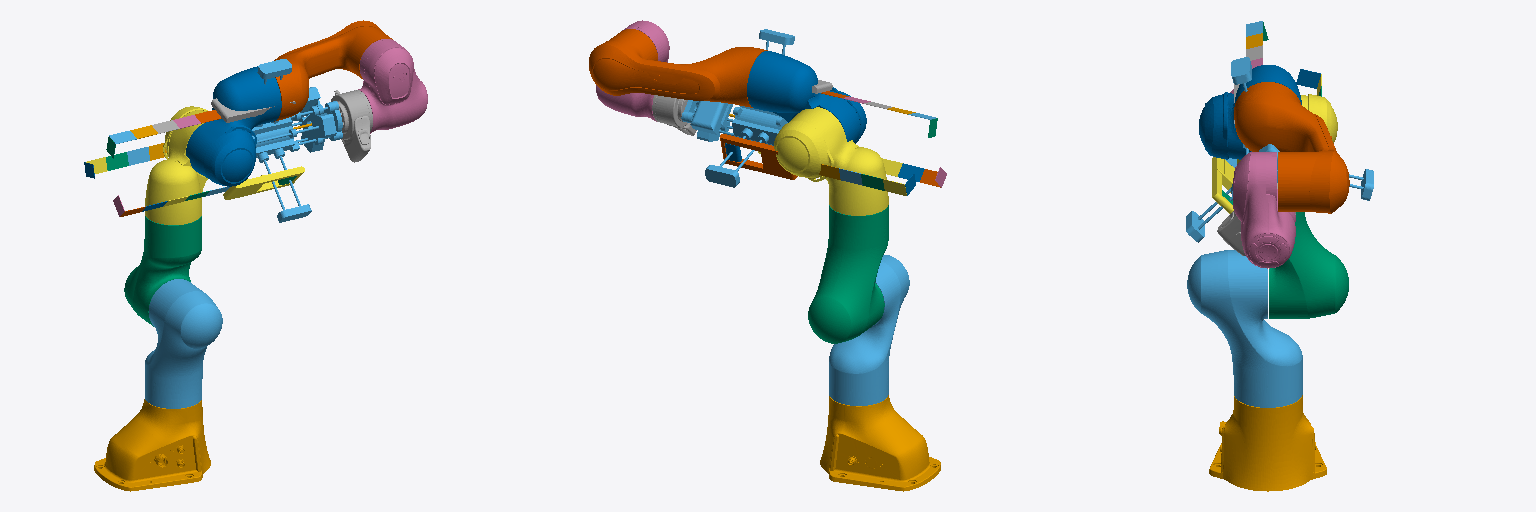
--- What the picture shows (computed from the rendered views, not written in the file) ---
The picture shows the robot from 3 angles, left to right: view 1: azimuth 30°, elevation 25°; view 2: azimuth 150°, elevation 25°; view 3: azimuth 270°, elevation 25°; orthographic projection.
Robot: panda_and_gripper — 36 links, 35 joints (25 revolute, 4 prismatic, 6 fixed); root link world; default pose: all joints at 0 but 4 set to mid-range because 0 is outside their limits (panda_joint4 = -1.57, finger_1_prismatic_joint = 0.0915, finger_2_prismatic_joint = 0.0915, finger_3_prismatic_joint = 0.0915).
Links seen in each view (by area): view 1: panda_link0, panda_link1, panda_link4, panda_link6, gripper_base_link, panda_link5, panda_link2, panda_link3, panda_link7, finger_1, finger_3; view 2: panda_link0, panda_link5, panda_link2, panda_link3, panda_link1, panda_link4, gripper_base_link, panda_link6, finger_2, panda_link7; view 3: panda_link1, panda_link5, panda_link0, panda_link2, panda_link6, panda_link4, gripper_base_link, finger_1, panda_link3, panda_link7.
Link boxes in pixels (x1,y1,x2,y2): panda_link0: (94,399,210,491); panda_link1: (145,279,222,408); panda_link4: (186,66,281,186); panda_link6: (358,39,427,133); gripper_base_link: (252,59,342,222); panda_link5: (274,20,392,121); panda_link2: (124,216,201,326); panda_link3: (145,106,207,224); panda_link7: (331,90,372,162); finger_1: (223,166,304,199); finger_3: (211,98,295,122); panda_link0: (820,395,940,491); panda_link5: (589,29,767,107); panda_link2: (808,205,888,343); panda_link3: (774,107,888,215); panda_link1: (829,255,909,405); panda_link4: (747,51,866,143); gripper_base_link: (681,29,794,187); panda_link6: (596,20,669,121); finger_2: (720,134,797,179); panda_link7: (652,95,696,135); panda_link1: (1187,250,1302,407); panda_link5: (1234,82,1349,213); panda_link0: (1209,395,1326,491); panda_link2: (1269,212,1348,318); panda_link6: (1233,152,1295,268); panda_link4: (1199,65,1301,159); gripper_base_link: (1186,57,1373,242); finger_1: (1212,157,1234,213); panda_link3: (1237,94,1337,163); panda_link7: (1217,183,1295,255).
Bounding box of the posed robot: 0.7022 × 0.301 × 0.8128 m (x, y, z).
16 mesh visuals loaded from 12 distinct referenced files (12 binary STL).

The robot description file, URDF, robot "panda_and_gripper":
<?xml version="1.0" ?>
<!-- =================================================================================== -->
<!-- |    This document was autogenerated by xacro from panda_and_gripper.urdf.xacro   | -->
<!-- |    EDITING THIS FILE BY HAND IS NOT RECOMMENDED                                 | -->
<!-- =================================================================================== -->
<robot name="panda_and_gripper">
  <!-- <link name="world" />
    <xacro:unless value="${not connected_to}">
      <joint name="virtual_joint" type="fixed">
        <parent link="${connected_to}"/>
        <child link="${arm_id}_link0"/>
        <origin rpy="${rpy}" xyz="${xyz}"/>
        <dynamics damping="1.0"/>
      </joint>
    </xacro:unless> -->
  <!-- PARAMETERS TO SET BY HAND -->
  <!-- END OF PARAMETERS TO SET BY HAND -->
  <!-- original working mesh links -->
  <!--    <xacro:arm_link number="0" visual_mesh="package://${mesh_folder}/visual/link0.dae"-->
  <!--      collision_mesh="package://${mesh_folder}/collision/link0.stl" mass="3.06"/>-->
  <!--    <xacro:arm_link number="1" visual_mesh="package://${mesh_folder}/visual/link1.dae"-->
  <!--      collision_mesh="package://${mesh_folder}/collision/link1.stl" mass="2.34"/>-->
  <!--    <xacro:arm_link number="2" visual_mesh="package://${mesh_folder}/visual/link2.dae"-->
  <!--      collision_mesh="package://${mesh_folder}/collision/link2.stl" mass="2.36"/>-->
  <!--    <xacro:arm_link number="3" visual_mesh="package://${mesh_folder}/visual/link3.dae"-->
  <!--      collision_mesh="package://${mesh_folder}/collision/link3.stl" mass="2.38"/>-->
  <!--    <xacro:arm_link number="4" visual_mesh="package://${mesh_folder}/visual/link4.dae"-->
  <!--      collision_mesh="package://${mesh_folder}/collision/link4.stl" mass="2.43"/>-->
  <!--    <xacro:arm_link number="5" visual_mesh="package://${mesh_folder}/visual/link5.dae"-->
  <!--      collision_mesh="package://${mesh_folder}/collision/link5.stl" mass="3.5"/>-->
  <!--    <xacro:arm_link number="6" visual_mesh="package://${mesh_folder}/visual/link6.dae"-->
  <!--      collision_mesh="package://${mesh_folder}/collision/link6.stl" mass="1.47"/>-->
  <!--    <xacro:arm_link number="7" visual_mesh="package://${mesh_folder}/visual/link7.dae"-->
  <!--      collision_mesh="package://${mesh_folder}/collision/link7.stl" mass="0.45"/>-->
  <!--     <xacro:arm_link number="8"/>-->
  <link name="panda_link0">
    <visual>
      <geometry>
        <mesh filename="package://gripper_description/meshes_panda/panda visual link0.stl"/>
      </geometry>
    </visual>
    <collision>
      <geometry>
        <mesh filename="package://gripper_description/meshes_panda/panda collision link0.stl"/>
      </geometry>
    </collision>
    <inertial>
      <origin rpy="0 0 0" xyz="0 0 0"/>
      <mass value="3.06"/>
      <inertia ixx="0.3" ixy="0.0" ixz="0.0" iyy="0.3" iyz="0.0" izz="0.3"/>
    </inertial>
  </link>
  <link name="panda_link1">
    <visual>
      <geometry>
        <mesh filename="package://gripper_description/meshes_panda/panda visual link1.stl"/>
      </geometry>
    </visual>
    <collision>
      <geometry>
        <mesh filename="package://gripper_description/meshes_panda/panda collision link1.stl"/>
      </geometry>
    </collision>
    <inertial>
      <origin rpy="0 0 0" xyz="0 0 0"/>
      <mass value="2.34"/>
      <inertia ixx="7.0337e-01" ixy="-1.3900e-04" ixz="6.7720e-03" iyy="7.0661e-01" iyz="1.9169e-02" izz="9.1170e-03"/>
    </inertial>
  </link>
  <link name="panda_link2">
    <visual>
      <geometry>
        <mesh filename="package://gripper_description/meshes_panda/panda visual link2.stl"/>
      </geometry>
    </visual>
    <collision>
      <geometry>
        <mesh filename="package://gripper_description/meshes_panda/panda collision link2.stl"/>
      </geometry>
    </collision>
    <inertial>
      <origin rpy="0 0 0" xyz="0 0 0"/>
      <mass value="2.36"/>
      <inertia ixx="7.9620e-03" ixy="-3.9250e-03" ixz="1.0254e-02" iyy="2.8110e-02" iyz="7.0400e-04" izz="2.5995e-02"/>
    </inertial>
  </link>
  <link name="panda_link3">
    <visual>
      <geometry>
        <mesh filename="package://gripper_description/meshes_panda/panda visual link3.stl"/>
      </geometry>
    </visual>
    <collision>
      <geometry>
        <mesh filename="package://gripper_description/meshes_panda/panda collision link3.stl"/>
      </geometry>
    </collision>
    <inertial>
      <origin rpy="0 0 0" xyz="0 0 0"/>
      <mass value="2.38"/>
      <inertia ixx="3.7242e-02" ixy="-4.7610e-03" ixz="-1.1396e-02" iyy="3.6155e-02" iyz="-1.2805e-02" izz="1.0830e-02"/>
    </inertial>
  </link>
  <link name="panda_link4">
    <visual>
      <geometry>
        <mesh filename="package://gripper_description/meshes_panda/panda visual link4.stl"/>
      </geometry>
    </visual>
    <collision>
      <geometry>
        <mesh filename="package://gripper_description/meshes_panda/panda collision link4.stl"/>
      </geometry>
    </collision>
    <inertial>
      <origin rpy="0 0 0" xyz="0 0 0"/>
      <mass value="2.43"/>
      <inertia ixx="2.5853e-02" ixy="7.7960e-03" ixz="-1.3320e-03" iyy="1.9552e-02" iyz="8.6410e-03" izz="2.8323e-02"/>
    </inertial>
  </link>
  <link name="panda_link5">
    <visual>
      <geometry>
        <mesh filename="package://gripper_description/meshes_panda/panda visual link5.stl"/>
      </geometry>
    </visual>
    <collision>
      <geometry>
        <mesh filename="package://gripper_description/meshes_panda/panda collision link5.stl"/>
      </geometry>
    </collision>
    <inertial>
      <origin rpy="0 0 0" xyz="0 0 0"/>
      <mass value="3.5"/>
      <inertia ixx="3.5549e-02" ixy="-2.1170e-03" ixz="-4.0370e-03" iyy="2.9474e-02" iyz="2.2900e-04" izz="8.6270e-03"/>
    </inertial>
  </link>
  <link name="panda_link6">
    <visual>
      <geometry>
        <mesh filename="package://gripper_description/meshes_panda/panda visual link6.stl"/>
      </geometry>
    </visual>
    <collision>
      <geometry>
        <mesh filename="package://gripper_description/meshes_panda/panda collision link6.stl"/>
      </geometry>
    </collision>
    <inertial>
      <origin rpy="0 0 0" xyz="0 0 0"/>
      <mass value="1.47"/>
      <inertia ixx="1.9640e-03" ixy="1.0900e-04" ixz="-1.1580e-03" iyy="4.3540e-03" iyz="3.4100e-04" izz="5.4330e-03"/>
    </inertial>
  </link>
  <link name="panda_link7">
    <visual>
      <geometry>
        <mesh filename="package://gripper_description/meshes_panda/panda visual link7.stl"/>
      </geometry>
    </visual>
    <collision>
      <geometry>
        <mesh filename="package://gripper_description/meshes_panda/panda collision link7.stl"/>
      </geometry>
    </collision>
    <inertial>
      <origin rpy="0 0 0" xyz="0 0 0"/>
      <mass value="0.45"/>
      <inertia ixx="1.2516e-02" ixy="-4.2800e-04" ixz="-1.1960e-03" iyy="1.0027e-02" iyz="-7.4100e-04" izz="4.8150e-03"/>
    </inertial>
  </link>
  <link name="panda_link8">
    <inertial>
      <origin rpy="0 0 0" xyz="0 0 0"/>
      <mass value="0.0"/>
      <inertia ixx="1e-4" ixy="0.0" ixz="0.0" iyy="1e-4" iyz="0.0" izz="1e-4"/>
    </inertial>
  </link>
  <!-- joint6 limit lower = -0.0175 -->
  <joint name="panda_joint1" type="revolute">
    <safety_controller k_position="100.0" k_velocity="40.0" soft_lower_limit="-2.8973" soft_upper_limit="2.8973"/>
    <origin rpy="0 0 0" xyz="0 0 0.333"/>
    <parent link="panda_link0"/>
    <child link="panda_link1"/>
    <limit effort="87" lower="-2.8973" upper="2.8973" velocity="2.175"/>
    <axis xyz="0 0 1"/>
    <dynamics damping="1.0" friction="0.1"/>
  </joint>
  <joint name="panda_joint2" type="revolute">
    <safety_controller k_position="100.0" k_velocity="40.0" soft_lower_limit="-1.7628" soft_upper_limit="1.7628"/>
    <origin rpy="-1.5707963267948966 0 0" xyz="0 0 0"/>
    <parent link="panda_link1"/>
    <child link="panda_link2"/>
    <limit effort="87" lower="-1.7628" upper="1.7628" velocity="2.175"/>
    <axis xyz="0 0 1"/>
    <dynamics damping="1.0" friction="0.1"/>
  </joint>
  <joint name="panda_joint3" type="revolute">
    <safety_controller k_position="100.0" k_velocity="40.0" soft_lower_limit="-2.8973" soft_upper_limit="2.8973"/>
    <origin rpy="1.5707963267948966 0 0" xyz="0 -0.316 0"/>
    <parent link="panda_link2"/>
    <child link="panda_link3"/>
    <limit effort="87" lower="-2.8973" upper="2.8973" velocity="2.175"/>
    <axis xyz="0 0 1"/>
    <dynamics damping="1.0" friction="0.1"/>
  </joint>
  <joint name="panda_joint4" type="revolute">
    <safety_controller k_position="100.0" k_velocity="40.0" soft_lower_limit="-3.0718" soft_upper_limit="-0.0698"/>
    <origin rpy="1.5707963267948966 0 0" xyz="0.0825 0 0"/>
    <parent link="panda_link3"/>
    <child link="panda_link4"/>
    <limit effort="87" lower="-3.0718" upper="-0.0698" velocity="2.175"/>
    <axis xyz="0 0 1"/>
    <dynamics damping="1.0" friction="0.1"/>
  </joint>
  <joint name="panda_joint5" type="revolute">
    <safety_controller k_position="100.0" k_velocity="40.0" soft_lower_limit="-2.8973" soft_upper_limit="2.8973"/>
    <origin rpy="-1.5707963267948966 0 0" xyz="-0.0825 0.384 0"/>
    <parent link="panda_link4"/>
    <child link="panda_link5"/>
    <limit effort="12" lower="-2.8973" upper="2.8973" velocity="2.61"/>
    <axis xyz="0 0 1"/>
    <dynamics damping="1.0" friction="0.1"/>
  </joint>
  <joint name="panda_joint6" type="revolute">
    <safety_controller k_position="100.0" k_velocity="40.0" soft_lower_limit="-0.0175" soft_upper_limit="3.7525"/>
    <origin rpy="1.5707963267948966 0 0" xyz="0 0 0"/>
    <parent link="panda_link5"/>
    <child link="panda_link6"/>
    <limit effort="12" lower="-0.0175" upper="3.7525" velocity="2.61"/>
    <axis xyz="0 0 1"/>
    <dynamics damping="1.0" friction="0.1"/>
  </joint>
  <joint name="panda_joint7" type="revolute">
    <safety_controller k_position="100.0" k_velocity="40.0" soft_lower_limit="-2.8973" soft_upper_limit="2.8973"/>
    <origin rpy="1.5707963267948966 0 0" xyz="0.088 0 0"/>
    <parent link="panda_link6"/>
    <child link="panda_link7"/>
    <limit effort="12" lower="-2.8973" upper="2.8973" velocity="2.61"/>
    <axis xyz="0 0 1"/>
    <dynamics damping="1.0" friction="0.1"/>
  </joint>
  <joint name="panda_joint8" type="fixed">
    <origin rpy="0 0 0" xyz="0 0 0.107"/>
    <parent link="panda_link7"/>
    <child link="panda_link8"/>
    <axis xyz="0 0 0"/>
    <dynamics damping="1.0" friction="0.1"/>
  </joint>
  <gazebo reference="panda_link0">
    <material>Gazebo/White</material>
    <mu1>0.2</mu1>
    <mu2>0.2</mu2>
  </gazebo>
  <gazebo reference="panda_link1">
    <material>Gazebo/White</material>
    <mu1>0.2</mu1>
    <mu2>0.2</mu2>
  </gazebo>
  <gazebo reference="panda_link2">
    <material>Gazebo/White</material>
    <mu1>0.2</mu1>
    <mu2>0.2</mu2>
  </gazebo>
  <gazebo reference="panda_link3">
    <material>Gazebo/White</material>
    <mu1>0.2</mu1>
    <mu2>0.2</mu2>
  </gazebo>
  <gazebo reference="panda_link4">
    <material>Gazebo/White</material>
    <mu1>0.2</mu1>
    <mu2>0.2</mu2>
  </gazebo>
  <gazebo reference="panda_link5">
    <material>Gazebo/White</material>
    <mu1>0.2</mu1>
    <mu2>0.2</mu2>
  </gazebo>
  <gazebo reference="panda_link6">
    <material>Gazebo/White</material>
    <mu1>0.2</mu1>
    <mu2>0.2</mu2>
  </gazebo>
  <gazebo reference="gripper_base_link">
    <material>Gazebo/Grey</material>
    <mu1>0.2</mu1>
    <mu2>0.2</mu2>
  </gazebo>
  <gazebo reference="finger_1_intermediate">
    <material>Gazebo/Grey</material>
    <mu1>0.2</mu1>
    <mu2>0.2</mu2>
  </gazebo>
  <gazebo reference="finger_1">
    <material>Gazebo/Grey</material>
    <mu1>0.2</mu1>
    <mu2>0.2</mu2>
  </gazebo>
  <gazebo reference="finger_2_intermediate">
    <material>Gazebo/Grey</material>
    <mu1>0.2</mu1>
    <mu2>0.2</mu2>
  </gazebo>
  <gazebo reference="finger_2">
    <material>Gazebo/Grey</material>
    <mu1>0.2</mu1>
    <mu2>0.2</mu2>
  </gazebo>
  <gazebo reference="finger_3_intermediate">
    <material>Gazebo/Grey</material>
    <mu1>0.2</mu1>
    <mu2>0.2</mu2>
  </gazebo>
  <gazebo reference="finger_3">
    <material>Gazebo/Grey</material>
    <mu1>0.2</mu1>
    <mu2>0.2</mu2>
  </gazebo>
  <gazebo reference="palm">
    <material>Gazebo/Grey</material>
    <mu1>0.2</mu1>
    <mu2>0.2</mu2>
  </gazebo>
  <transmission name="panda_tran_1">
    <type>transmission_interface/SimpleTransmission</type>
    <joint name="panda_joint1">
      <!-- <hardwareInterface>hardware_interface/EffortJointInterface</hardwareInterface> -->
      <hardwareInterface>hardware_interface/PositionJointInterface</hardwareInterface>
    </joint>
    <actuator name="panda_motor_1">
      <!-- <hardwareInterface>hardware_interface/EffortJointInterface</hardwareInterface> -->
      <hardwareInterface>hardware_interface/PositionJointInterface</hardwareInterface>
      <mechanicalReduction>1</mechanicalReduction>
    </actuator>
  </transmission>
  <transmission name="panda_tran_2">
    <type>transmission_interface/SimpleTransmission</type>
    <joint name="panda_joint2">
      <!-- <hardwareInterface>hardware_interface/EffortJointInterface</hardwareInterface> -->
      <hardwareInterface>hardware_interface/PositionJointInterface</hardwareInterface>
    </joint>
    <actuator name="panda_motor_2">
      <!-- <hardwareInterface>hardware_interface/EffortJointInterface</hardwareInterface> -->
      <hardwareInterface>hardware_interface/PositionJointInterface</hardwareInterface>
      <mechanicalReduction>1</mechanicalReduction>
    </actuator>
  </transmission>
  <transmission name="panda_tran_3">
    <type>transmission_interface/SimpleTransmission</type>
    <joint name="panda_joint3">
      <!-- <hardwareInterface>hardware_interface/EffortJointInterface</hardwareInterface> -->
      <hardwareInterface>hardware_interface/PositionJointInterface</hardwareInterface>
    </joint>
    <actuator name="panda_motor_3">
      <!-- <hardwareInterface>hardware_interface/EffortJointInterface</hardwareInterface> -->
      <hardwareInterface>hardware_interface/PositionJointInterface</hardwareInterface>
      <mechanicalReduction>1</mechanicalReduction>
    </actuator>
  </transmission>
  <transmission name="panda_tran_4">
    <type>transmission_interface/SimpleTransmission</type>
    <joint name="panda_joint4">
      <!-- <hardwareInterface>hardware_interface/EffortJointInterface</hardwareInterface> -->
      <hardwareInterface>hardware_interface/PositionJointInterface</hardwareInterface>
    </joint>
    <actuator name="panda_motor_4">
      <!-- <hardwareInterface>hardware_interface/EffortJointInterface</hardwareInterface> -->
      <hardwareInterface>hardware_interface/PositionJointInterface</hardwareInterface>
      <mechanicalReduction>1</mechanicalReduction>
    </actuator>
  </transmission>
  <transmission name="panda_tran_5">
    <type>transmission_interface/SimpleTransmission</type>
    <joint name="panda_joint5">
      <!-- <hardwareInterface>hardware_interface/EffortJointInterface</hardwareInterface> -->
      <hardwareInterface>hardware_interface/PositionJointInterface</hardwareInterface>
    </joint>
    <actuator name="panda_motor_5">
      <!-- <hardwareInterface>hardware_interface/EffortJointInterface</hardwareInterface> -->
      <hardwareInterface>hardware_interface/PositionJointInterface</hardwareInterface>
      <mechanicalReduction>1</mechanicalReduction>
    </actuator>
  </transmission>
  <transmission name="panda_tran_6">
    <type>transmission_interface/SimpleTransmission</type>
    <joint name="panda_joint6">
      <!-- <hardwareInterface>hardware_interface/EffortJointInterface</hardwareInterface> -->
      <hardwareInterface>hardware_interface/PositionJointInterface</hardwareInterface>
    </joint>
    <actuator name="panda_motor_6">
      <!-- <hardwareInterface>hardware_interface/EffortJointInterface</hardwareInterface> -->
      <hardwareInterface>hardware_interface/PositionJointInterface</hardwareInterface>
      <mechanicalReduction>1</mechanicalReduction>
    </actuator>
  </transmission>
  <transmission name="panda_tran_7">
    <type>transmission_interface/SimpleTransmission</type>
    <joint name="panda_joint7">
      <!-- <hardwareInterface>hardware_interface/EffortJointInterface</hardwareInterface> -->
      <hardwareInterface>hardware_interface/PositionJointInterface</hardwareInterface>
    </joint>
    <actuator name="panda_motor_7">
      <!-- <hardwareInterface>hardware_interface/EffortJointInterface</hardwareInterface> -->
      <hardwareInterface>hardware_interface/PositionJointInterface</hardwareInterface>
      <mechanicalReduction>1</mechanicalReduction>
    </actuator>
  </transmission>
  <transmission name="panda_tran_8">
    <type>transmission_interface/SimpleTransmission</type>
    <joint name="finger_1_revolute_joint">
      <!-- <hardwareInterface>hardware_interface/EffortJointInterface</hardwareInterface> -->
      <hardwareInterface>hardware_interface/PositionJointInterface</hardwareInterface>
    </joint>
    <actuator name="panda_motor_8">
      <!-- <hardwareInterface>hardware_interface/EffortJointInterface</hardwareInterface> -->
      <hardwareInterface>hardware_interface/PositionJointInterface</hardwareInterface>
      <mechanicalReduction>1</mechanicalReduction>
    </actuator>
  </transmission>
  <transmission name="panda_tran_9">
    <type>transmission_interface/SimpleTransmission</type>
    <joint name="finger_1_prismatic_joint">
      <!-- <hardwareInterface>hardware_interface/EffortJointInterface</hardwareInterface> -->
      <hardwareInterface>hardware_interface/PositionJointInterface</hardwareInterface>
    </joint>
    <actuator name="panda_motor_9">
      <!-- <hardwareInterface>hardware_interface/EffortJointInterface</hardwareInterface> -->
      <hardwareInterface>hardware_interface/PositionJointInterface</hardwareInterface>
      <mechanicalReduction>1</mechanicalReduction>
    </actuator>
  </transmission>
  <transmission name="panda_tran_10">
    <type>transmission_interface/SimpleTransmission</type>
    <joint name="finger_2_revolute_joint">
      <!-- <hardwareInterface>hardware_interface/EffortJointInterface</hardwareInterface> -->
      <hardwareInterface>hardware_interface/PositionJointInterface</hardwareInterface>
    </joint>
    <actuator name="panda_motor_10">
      <!-- <hardwareInterface>hardware_interface/EffortJointInterface</hardwareInterface> -->
      <hardwareInterface>hardware_interface/PositionJointInterface</hardwareInterface>
      <mechanicalReduction>1</mechanicalReduction>
    </actuator>
  </transmission>
  <transmission name="panda_tran_11">
    <type>transmission_interface/SimpleTransmission</type>
    <joint name="finger_2_prismatic_joint">
      <!-- <hardwareInterface>hardware_interface/EffortJointInterface</hardwareInterface> -->
      <hardwareInterface>hardware_interface/PositionJointInterface</hardwareInterface>
    </joint>
    <actuator name="panda_motor_11">
      <!-- <hardwareInterface>hardware_interface/EffortJointInterface</hardwareInterface> -->
      <hardwareInterface>hardware_interface/PositionJointInterface</hardwareInterface>
      <mechanicalReduction>1</mechanicalReduction>
    </actuator>
  </transmission>
  <transmission name="panda_tran_12">
    <type>transmission_interface/SimpleTransmission</type>
    <joint name="finger_3_revolute_joint">
      <!-- <hardwareInterface>hardware_interface/EffortJointInterface</hardwareInterface> -->
      <hardwareInterface>hardware_interface/PositionJointInterface</hardwareInterface>
    </joint>
    <actuator name="panda_motor_12">
      <!-- <hardwareInterface>hardware_interface/EffortJointInterface</hardwareInterface> -->
      <hardwareInterface>hardware_interface/PositionJointInterface</hardwareInterface>
      <mechanicalReduction>1</mechanicalReduction>
    </actuator>
  </transmission>
  <transmission name="panda_tran_13">
    <type>transmission_interface/SimpleTransmission</type>
    <joint name="finger_3_prismatic_joint">
      <!-- <hardwareInterface>hardware_interface/EffortJointInterface</hardwareInterface> -->
      <hardwareInterface>hardware_interface/PositionJointInterface</hardwareInterface>
    </joint>
    <actuator name="panda_motor_13">
      <!-- <hardwareInterface>hardware_interface/EffortJointInterface</hardwareInterface> -->
      <hardwareInterface>hardware_interface/PositionJointInterface</hardwareInterface>
      <mechanicalReduction>1</mechanicalReduction>
    </actuator>
  </transmission>
  <transmission name="panda_tran_14">
    <type>transmission_interface/SimpleTransmission</type>
    <joint name="palm_prismatic_joint">
      <!-- <hardwareInterface>hardware_interface/EffortJointInterface</hardwareInterface> -->
      <hardwareInterface>hardware_interface/PositionJointInterface</hardwareInterface>
    </joint>
    <actuator name="panda_motor_14">
      <!-- <hardwareInterface>hardware_interface/EffortJointInterface</hardwareInterface> -->
      <hardwareInterface>hardware_interface/PositionJointInterface</hardwareInterface>
      <mechanicalReduction>1</mechanicalReduction>
    </actuator>
  </transmission>
  <gazebo>
    <plugin filename="libgazebo_ros_control.so" name="gazebo_ros_control">
      <!--            	<robotNamespace>/gripper_controller</robotNamespace>-->
    </plugin>
  </gazebo>
  <!-- PARAMETERS TO BE SET BY HAND -->
  <!-- END OF PARAMETERS TO BE SET BY HAND -->
  <!-- PARAMETERS TO BE SET BY HAND -->
  <!-- END OF PARAMETER TO BE SET BY HAND -->
  <!-- BASE LINK -->
  <link name="gripper_base_link">
    <inertial>
      <mass value="1.5"/>
      <origin rpy="3.141592653589793 0 0" xyz="0 0 0.025"/>
      <inertia ixx="9.95e-3" ixy="2.73e-6" ixz="-14.32e-6" iyy="10.08e-3" iyz="121.38e-6" izz="5.13e-3"/>
    </inertial>
    <visual>
      <geometry>
        <mesh filename="package://gripper_description/meshes/main body visual.STL"/>
      </geometry>
    </visual>
    <collision>
      <geometry>
        <!--          <mesh filename="package://gripper_description/meshes/main body collision.STL"/>-->
        <cylinder length="0.1" radius="0.03"/>
      </geometry>
    </collision>
  </link>
  <!-- Intermediate link for prismatic joint -->
  <link name="finger_1_intermediate">
    <inertial>
      <mass value="0.1"/>
      <origin rpy="0 0 0" xyz="0 0 0"/>
      <inertia ixx="55.59e-6" ixy="-47.23e-6" ixz="1.16e-6" iyy="146.36e-6" iyz="1.00e-6" izz="154.18e-6"/>
    </inertial>
    <visual>
      <geometry>
        <mesh filename="package://gripper_description/meshes/nut visual.STL"/>
      </geometry>
    </visual>
    <collision>
      <geometry>
        <mesh filename="package://gripper_description/meshes/nut collision.STL"/>
      </geometry>
    </collision>
  </link>
  <!-- Main finger link -->
  <link name="finger_1">
    <inertial>
      <mass value="0.1"/>
      <origin rpy="0 0 0" xyz="0 0 0"/>
      <inertia ixx="55.59e-6" ixy="-47.23e-6" ixz="1.16e-6" iyy="146.36e-6" iyz="1.00e-6" izz="154.18e-6"/>
    </inertial>
    <visual>
      <geometry>
        <mesh filename="package://gripper_description/meshes/platform only visual.STL"/>
      </geometry>
    </visual>
    <collision>
      <geometry>
        <mesh filename="package://gripper_description/meshes/platform only collision.STL"/>
      </geometry>
    </collision>
  </link>
  <joint name="finger_1_prismatic_joint" type="prismatic">
    <axis rpy="0 0 0" xyz="0 1 0"/>
    <parent link="gripper_base_link"/>
    <child link="finger_1_intermediate"/>
    <origin rpy="4.71238898038469                    4.71238898038469                    1.5707963267948966" xyz="0.0                    0.0                    0"/>
    <limit effort="40.0" lower="0.049" upper="0.134" velocity="0.015"/>
    <dynamics damping="1.0"/>
  </joint>
  <joint name="finger_1_revolute_joint" type="revolute">
    <axis rpy="0 0 0" xyz="0 0 1"/>
    <parent link="finger_1_intermediate"/>
    <child link="finger_1"/>
    <origin rpy="0 0 0.0" xyz="0 0 0"/>
    <limit effort="40.0" lower="-0.7" upper="0.7" velocity="0.1"/>
    <dynamics damping="1.0"/>
  </joint>
  <!-- Intermediate link for prismatic joint -->
  <link name="finger_2_intermediate">
    <inertial>
      <mass value="0.1"/>
      <origin rpy="0 0 0" xyz="0 0 0"/>
      <inertia ixx="55.59e-6" ixy="-47.23e-6" ixz="1.16e-6" iyy="146.36e-6" iyz="1.00e-6" izz="154.18e-6"/>
    </inertial>
    <visual>
      <geometry>
        <mesh filename="package://gripper_description/meshes/nut visual.STL"/>
      </geometry>
    </visual>
    <collision>
      <geometry>
        <mesh filename="package://gripper_description/meshes/nut collision.STL"/>
      </geometry>
    </collision>
  </link>
  <!-- Main finger link -->
  <link name="finger_2">
    <inertial>
      <mass value="0.1"/>
      <origin rpy="0 0 0" xyz="0 0 0"/>
      <inertia ixx="55.59e-6" ixy="-47.23e-6" ixz="1.16e-6" iyy="146.36e-6" iyz="1.00e-6" izz="154.18e-6"/>
    </inertial>
    <visual>
      <geometry>
        <mesh filename="package://gripper_description/meshes/platform only visual.STL"/>
      </geometry>
    </visual>
    <collision>
      <geometry>
        <mesh filename="package://gripper_description/meshes/platform only collision.STL"/>
      </geometry>
    </collision>
  </link>
  <joint name="finger_2_prismatic_joint" type="prismatic">
    <axis rpy="0 0 0" xyz="0 1 0"/>
    <parent link="gripper_base_link"/>
    <child link="finger_2_intermediate"/>
    <origin rpy="4.71238898038469                    4.71238898038469                    -0.5235987755982987" xyz="0.0                    -0.0                    0"/>
    <limit effort="40.0" lower="0.049" upper="0.134" velocity="0.015"/>
    <dynamics damping="1.0"/>
  </joint>
  <joint name="finger_2_revolute_joint" type="revolute">
    <axis rpy="0 0 0" xyz="0 0 1"/>
    <parent link="finger_2_intermediate"/>
    <child link="finger_2"/>
    <origin rpy="0 0 0.0" xyz="0 0 0"/>
    <limit effort="40.0" lower="-0.7" upper="0.7" velocity="0.1"/>
    <dynamics damping="1.0"/>
  </joint>
  <!-- Intermediate link for prismatic joint -->
  <link name="finger_3_intermediate">
    <inertial>
      <mass value="0.1"/>
      <origin rpy="0 0 0" xyz="0 0 0"/>
      <inertia ixx="55.59e-6" ixy="-47.23e-6" ixz="1.16e-6" iyy="146.36e-6" iyz="1.00e-6" izz="154.18e-6"/>
    </inertial>
    <visual>
      <geometry>
        <mesh filename="package://gripper_description/meshes/nut visual.STL"/>
      </geometry>
    </visual>
    <collision>
      <geometry>
        <mesh filename="package://gripper_description/meshes/nut collision.STL"/>
      </geometry>
    </collision>
  </link>
  <!-- Main finger link -->
  <link name="finger_3">
    <inertial>
      <mass value="0.1"/>
      <origin rpy="0 0 0" xyz="0 0 0"/>
      <inertia ixx="55.59e-6" ixy="-47.23e-6" ixz="1.16e-6" iyy="146.36e-6" iyz="1.00e-6" izz="154.18e-6"/>
    </inertial>
    <visual>
      <geometry>
        <mesh filename="package://gripper_description/meshes/platform only visual.STL"/>
      </geometry>
    </visual>
    <collision>
      <geometry>
        <mesh filename="package://gripper_description/meshes/platform only collision.STL"/>
      </geometry>
    </collision>
  </link>
  <joint name="finger_3_prismatic_joint" type="prismatic">
    <axis rpy="0 0 0" xyz="0 1 0"/>
    <parent link="gripper_base_link"/>
    <child link="finger_3_intermediate"/>
    <origin rpy="4.71238898038469                    4.71238898038469                    -2.617993877991494" xyz="-0.0                    -0.0                    0"/>
    <limit effort="40.0" lower="0.049" upper="0.134" velocity="0.015"/>
    <dynamics damping="1.0"/>
  </joint>
  <joint name="finger_3_revolute_joint" type="revolute">
    <axis rpy="0 0 0" xyz="0 0 1"/>
    <parent link="finger_3_intermediate"/>
    <child link="finger_3"/>
    <origin rpy="0 0 0.0" xyz="0 0 0"/>
    <limit effort="40.0" lower="-0.7" upper="0.7" velocity="0.1"/>
    <dynamics damping="1.0"/>
  </joint>
  <!-- PALM -->
  <link name="palm">
    <inertial>
      <mass value="0.05"/>
      <origin rpy="0 0 0" xyz="0 0 0"/>
      <inertia ixx="10.0e-6" ixy="0.0" ixz="0.0" iyy="10.0e-6" iyz="0.0" izz="10.0e-6"/>
    </inertial>
    <visual>
      <origin rpy="0 0 0" xyz="0 0 0"/>
      <geometry>
        <mesh filename="package://gripper_description/meshes/palm visual.STL"/>
      </geometry>
    </visual>
    <collision>
      <geometry>
        <mesh filename="package://gripper_description/meshes/palm collision.STL"/>
      </geometry>
    </collision>
  </link>
  <joint name="palm_prismatic_joint" type="prismatic">
    <axis rpy="0 0 0" xyz="1 0 0"/>
    <parent link="gripper_base_link"/>
    <child link="palm"/>
    <origin rpy="0 -1.5707963267948966 0" xyz="0 0 0"/>
    <limit effort="40.0" lower="0.0" upper="0.165" velocity="0.036"/>
    <dynamics damping="1.0"/>
  </joint>
  <!-- PARAMETERS TO BE SET BY HAND -->
  <!-- END OF PARAMETERS TO BE SET BY HAND -->
  <joint name="finger_1_segment_joint_0" type="revolute">
    <origin rpy="1.5707963267948966 0 0" xyz="0.129 -0.007 0"/>
    <parent link="finger_1"/>
    <child link="finger_1_segment_link_1"/>
    <axis rpy="0 0 0" xyz="0 1 0"/>
    <limit effort="1000.0" lower="-1.0" upper="1.0" velocity="1.0"/>
    <dynamics damping="0.01" friction="0.0"/>
  </joint>
  <!-- END TESTING OF BASE JOINT (rather than fixed) -->
  <link name="finger_1_segment_link_1">
    <inertial>
      <mass value="0.013055555555555555"/>
      <inertia ixx="0.0008538442129629629" ixy="0.00" ixz="0.00" iyy="0.009614121990740741" iyz="0.00" izz="0.010466203703703703"/>
    </inertial>
    <visual>
      <origin rpy="0 0 0" xyz="0.0235 0 0"/>
      <geometry>
        <box size="0.047 0.028 0.0009"/>
      </geometry>
    </visual>
    <collision>
      <origin rpy="0 0 0" xyz="0.0235 0 0"/>
      <geometry>
        <box size="0.047 0.028 0.0009"/>
      </geometry>
    </collision>
  </link>
  <gazebo reference="finger_1_segment_link_1">
    <material>Gazebo/Orange</material>
    <mu1>0.1</mu1>
    <mu2>0.1</mu2>
    <maxVel>0.0</maxVel>
    <minDepth>0.001</minDepth>
    <!-- <kp>100</kp>
        <kd>1</kd> -->
  </gazebo>
  <link name="finger_1_segment_link_2">
    <inertial>
      <mass value="0.013055555555555555"/>
      <inertia ixx="0.0008538442129629629" ixy="0.00" ixz="0.00" iyy="0.009614121990740741" iyz="0.00" izz="0.010466203703703703"/>
    </inertial>
    <visual>
      <origin rpy="0 0 0" xyz="0.0235 0 0"/>
      <geometry>
        <box size="0.047 0.028 0.0009"/>
      </geometry>
    </visual>
    <collision>
      <origin rpy="0 0 0" xyz="0.0235 0 0"/>
      <geometry>
        <box size="0.047 0.028 0.0009"/>
      </geometry>
    </collision>
  </link>
  <gazebo reference="finger_1_segment_link_2">
    <material>Gazebo/Orange</material>
    <mu1>0.1</mu1>
    <mu2>0.1</mu2>
    <maxVel>0.0</maxVel>
    <minDepth>0.001</minDepth>
    <!-- <kp>100</kp>
        <kd>1</kd> -->
  </gazebo>
  <!-- bending joint -->
  <joint name="finger_1_segment_joint_1" type="revolute">
    <axis rpy="0 0 0" xyz="0 1 0"/>
    <parent link="finger_1_segment_link_1"/>
    <child link="finger_1_segment_link_2"/>
    <origin rpy="0 0 0" xyz="0.047 0 0"/>
    <limit effort="1000.0" lower="-1.0" upper="1.0" velocity="1.0"/>
    <dynamics damping="0.01" friction="0.0"/>
  </joint>
  <gazebo reference="finger_1_segment_joint_1">
    <provideFeedback>1</provideFeedback>
    <springReference>0.0</springReference>
    <implicitSpringDamper>1</implicitSpringDamper>
    <springStiffness>3.0</springStiffness>
  </gazebo>
  <!-- set transmission for gazebo ROS controllers-->
  <transmission name="finger_1_segment_tran_1">
    <type>transmission_interface/SimpleTransmission</type>
    <joint name="finger_1_segment_joint_1">
      <hardwareInterface>hardware_interface/EffortJointInterface</hardwareInterface>
    </joint>
    <actuator name="finger_1_segment_motor_1">
      <hardwareInterface>hardware_interface/EffortJointInterface</hardwareInterface>
      <mechanicalReduction>1</mechanicalReduction>
    </actuator>
  </transmission>
  <link name="finger_1_segment_link_3">
    <inertial>
      <mass value="0.013055555555555555"/>
      <inertia ixx="0.0008538442129629629" ixy="0.00" ixz="0.00" iyy="0.009614121990740741" iyz="0.00" izz="0.010466203703703703"/>
    </inertial>
    <visual>
      <origin rpy="0 0 0" xyz="0.0235 0 0"/>
      <geometry>
        <box size="0.047 0.028 0.0009"/>
      </geometry>
    </visual>
    <collision>
      <origin rpy="0 0 0" xyz="0.0235 0 0"/>
      <geometry>
        <box size="0.047 0.028 0.0009"/>
      </geometry>
    </collision>
  </link>
  <gazebo reference="finger_1_segment_link_3">
    <material>Gazebo/Orange</material>
    <mu1>0.1</mu1>
    <mu2>0.1</mu2>
    <maxVel>0.0</maxVel>
    <minDepth>0.001</minDepth>
    <!-- <kp>100</kp>
        <kd>1</kd> -->
  </gazebo>
  <!-- bending joint -->
  <joint name="finger_1_segment_joint_2" type="revolute">
    <axis rpy="0 0 0" xyz="0 1 0"/>
    <parent link="finger_1_segment_link_2"/>
    <child link="finger_1_segment_link_3"/>
    <origin rpy="0 0 0" xyz="0.047 0 0"/>
    <limit effort="1000.0" lower="-1.0" upper="1.0" velocity="1.0"/>
    <dynamics damping="0.01" friction="0.0"/>
  </joint>
  <gazebo reference="finger_1_segment_joint_2">
    <provideFeedback>1</provideFeedback>
    <springReference>0.0</springReference>
    <implicitSpringDamper>1</implicitSpringDamper>
    <springStiffness>3.0</springStiffness>
  </gazebo>
  <!-- set transmission for gazebo ROS controllers-->
  <transmission name="finger_1_segment_tran_2">
    <type>transmission_interface/SimpleTransmission</type>
    <joint name="finger_1_segment_joint_2">
      <hardwareInterface>hardware_interface/EffortJointInterface</hardwareInterface>
    </joint>
    <actuator name="finger_1_segment_motor_2">
      <hardwareInterface>hardware_interface/EffortJointInterface</hardwareInterface>
      <mechanicalReduction>1</mechanicalReduction>
    </actuator>
  </transmission>
  <link name="finger_1_segment_link_4">
    <inertial>
      <mass value="0.013055555555555555"/>
      <inertia ixx="0.0008538442129629629" ixy="0.00" ixz="0.00" iyy="0.009614121990740741" iyz="0.00" izz="0.010466203703703703"/>
    </inertial>
    <visual>
      <origin rpy="0 0 0" xyz="0.0235 0 0"/>
      <geometry>
        <box size="0.047 0.028 0.0009"/>
      </geometry>
    </visual>
    <collision>
      <origin rpy="0 0 0" xyz="0.0235 0 0"/>
      <geometry>
        <box size="0.047 0.028 0.0009"/>
      </geometry>
    </collision>
  </link>
  <gazebo reference="finger_1_segment_link_4">
    <material>Gazebo/Orange</material>
    <mu1>0.1</mu1>
    <mu2>0.1</mu2>
    <maxVel>0.0</maxVel>
    <minDepth>0.001</minDepth>
    <!-- <kp>100</kp>
        <kd>1</kd> -->
  </gazebo>
  <!-- bending joint -->
  <joint name="finger_1_segment_joint_3" type="revolute">
    <axis rpy="0 0 0" xyz="0 1 0"/>
    <parent link="finger_1_segment_link_3"/>
    <child link="finger_1_segment_link_4"/>
    <origin rpy="0 0 0" xyz="0.047 0 0"/>
    <limit effort="1000.0" lower="-1.0" upper="1.0" velocity="1.0"/>
    <dynamics damping="0.01" friction="0.0"/>
  </joint>
  <gazebo reference="finger_1_segment_joint_3">
    <provideFeedback>1</provideFeedback>
    <springReference>0.0</springReference>
    <implicitSpringDamper>1</implicitSpringDamper>
    <springStiffness>3.0</springStiffness>
  </gazebo>
  <!-- set transmission for gazebo ROS controllers-->
  <transmission name="finger_1_segment_tran_3">
    <type>transmission_interface/SimpleTransmission</type>
    <joint name="finger_1_segment_joint_3">
      <hardwareInterface>hardware_interface/EffortJointInterface</hardwareInterface>
    </joint>
    <actuator name="finger_1_segment_motor_3">
      <hardwareInterface>hardware_interface/EffortJointInterface</hardwareInterface>
      <mechanicalReduction>1</mechanicalReduction>
    </actuator>
  </transmission>
  <link name="finger_1_segment_link_5">
    <inertial>
      <mass value="0.013055555555555555"/>
      <inertia ixx="0.0008538442129629629" ixy="0.00" ixz="0.00" iyy="0.009614121990740741" iyz="0.00" izz="0.010466203703703703"/>
    </inertial>
    <visual>
      <origin rpy="0 0 0" xyz="0.0235 0 0"/>
      <geometry>
        <box size="0.047 0.028 0.0009"/>
      </geometry>
    </visual>
    <collision>
      <origin rpy="0 0 0" xyz="0.0235 0 0"/>
      <geometry>
        <box size="0.047 0.028 0.0009"/>
      </geometry>
    </collision>
  </link>
  <gazebo reference="finger_1_segment_link_5">
    <material>Gazebo/Orange</material>
    <mu1>0.1</mu1>
    <mu2>0.1</mu2>
    <maxVel>0.0</maxVel>
    <minDepth>0.001</minDepth>
    <!-- <kp>100</kp>
        <kd>1</kd> -->
  </gazebo>
  <!-- bending joint -->
  <joint name="finger_1_segment_joint_4" type="revolute">
    <axis rpy="0 0 0" xyz="0 1 0"/>
    <parent link="finger_1_segment_link_4"/>
    <child link="finger_1_segment_link_5"/>
    <origin rpy="0 0 0" xyz="0.047 0 0"/>
    <limit effort="1000.0" lower="-1.0" upper="1.0" velocity="1.0"/>
    <dynamics damping="0.01" friction="0.0"/>
  </joint>
  <gazebo reference="finger_1_segment_joint_4">
    <provideFeedback>1</provideFeedback>
    <springReference>0.0</springReference>
    <implicitSpringDamper>1</implicitSpringDamper>
    <springStiffness>3.0</springStiffness>
  </gazebo>
  <!-- set transmission for gazebo ROS controllers-->
  <transmission name="finger_1_segment_tran_4">
    <type>transmission_interface/SimpleTransmission</type>
    <joint name="finger_1_segment_joint_4">
      <hardwareInterface>hardware_interface/EffortJointInterface</hardwareInterface>
    </joint>
    <actuator name="finger_1_segment_motor_4">
      <hardwareInterface>hardware_interface/EffortJointInterface</hardwareInterface>
      <mechanicalReduction>1</mechanicalReduction>
    </actuator>
  </transmission>
  <!-- Add the finger hook link -->
  <link name="finger_1_finger_hook_link">
    <inertial>
      <mass value="0.009722222222222222"/>
      <inertia ixx="0.0006358414351851853" ixy="0.00" ixz="0.00" iyy="0.003970563657407408" iyz="0.00" izz="0.004605092592592593"/>
    </inertial>
    <visual>
      <origin rpy="0 0 0" xyz="0.0175 0 0"/>
      <geometry>
        <box size="0.035 0.028 0.0009"/>
      </geometry>
    </visual>
    <collision>
      <origin rpy="0 0 0" xyz="0.0175 0 0"/>
      <geometry>
        <box size="0.035 0.028 0.0009"/>
      </geometry>
    </collision>
  </link>
  <gazebo reference="finger_1_finger_hook_link">
    <material>Gazebo/Orange</material>
    <mu1>0.1</mu1>
    <mu2>0.1</mu2>
    <maxVel>0.0</maxVel>
    <minDepth>0.001</minDepth>
    <!-- <kp>100</kp>
        <kd>1</kd> -->
  </gazebo>
  <joint name="finger_1_finger_hook_joint" type="fixed">
    <parent link="finger_1_segment_link_5"/>
    <child link="finger_1_finger_hook_link"/>
    <origin rpy="0 -1.5707963267948502 0" xyz="0.047 0 0"/>
  </joint>
  <!-- PARAMETERS TO BE SET BY HAND -->
  <!-- END OF PARAMETERS TO BE SET BY HAND -->
  <joint name="finger_2_segment_joint_0" type="revolute">
    <origin rpy="1.5707963267948966 0 0" xyz="0.129 -0.007 0"/>
    <parent link="finger_2"/>
    <child link="finger_2_segment_link_1"/>
    <axis rpy="0 0 0" xyz="0 1 0"/>
    <limit effort="1000.0" lower="-1.0" upper="1.0" velocity="1.0"/>
    <dynamics damping="0.01" friction="0.0"/>
  </joint>
  <!-- END TESTING OF BASE JOINT (rather than fixed) -->
  <link name="finger_2_segment_link_1">
    <inertial>
      <mass value="0.013055555555555555"/>
      <inertia ixx="0.0008538442129629629" ixy="0.00" ixz="0.00" iyy="0.009614121990740741" iyz="0.00" izz="0.010466203703703703"/>
    </inertial>
    <visual>
      <origin rpy="0 0 0" xyz="0.0235 0 0"/>
      <geometry>
        <box size="0.047 0.028 0.0009"/>
      </geometry>
    </visual>
    <collision>
      <origin rpy="0 0 0" xyz="0.0235 0 0"/>
      <geometry>
        <box size="0.047 0.028 0.0009"/>
      </geometry>
    </collision>
  </link>
  <gazebo reference="finger_2_segment_link_1">
    <material>Gazebo/Orange</material>
    <mu1>0.1</mu1>
    <mu2>0.1</mu2>
    <maxVel>0.0</maxVel>
    <minDepth>0.001</minDepth>
    <!-- <kp>100</kp>
        <kd>1</kd> -->
  </gazebo>
  <link name="finger_2_segment_link_2">
    <inertial>
      <mass value="0.013055555555555555"/>
      <inertia ixx="0.0008538442129629629" ixy="0.00" ixz="0.00" iyy="0.009614121990740741" iyz="0.00" izz="0.010466203703703703"/>
    </inertial>
    <visual>
      <origin rpy="0 0 0" xyz="0.0235 0 0"/>
      <geometry>
        <box size="0.047 0.028 0.0009"/>
      </geometry>
    </visual>
    <collision>
      <origin rpy="0 0 0" xyz="0.0235 0 0"/>
      <geometry>
        <box size="0.047 0.028 0.0009"/>
      </geometry>
    </collision>
  </link>
  <gazebo reference="finger_2_segment_link_2">
    <material>Gazebo/Orange</material>
    <mu1>0.1</mu1>
    <mu2>0.1</mu2>
    <maxVel>0.0</maxVel>
    <minDepth>0.001</minDepth>
    <!-- <kp>100</kp>
        <kd>1</kd> -->
  </gazebo>
  <!-- bending joint -->
  <joint name="finger_2_segment_joint_1" type="revolute">
    <axis rpy="0 0 0" xyz="0 1 0"/>
    <parent link="finger_2_segment_link_1"/>
    <child link="finger_2_segment_link_2"/>
    <origin rpy="0 0 0" xyz="0.047 0 0"/>
    <limit effort="1000.0" lower="-1.0" upper="1.0" velocity="1.0"/>
    <dynamics damping="0.01" friction="0.0"/>
  </joint>
  <gazebo reference="finger_2_segment_joint_1">
    <provideFeedback>1</provideFeedback>
    <springReference>0.0</springReference>
    <implicitSpringDamper>1</implicitSpringDamper>
    <springStiffness>3.0</springStiffness>
  </gazebo>
  <!-- set transmission for gazebo ROS controllers-->
  <transmission name="finger_2_segment_tran_1">
    <type>transmission_interface/SimpleTransmission</type>
    <joint name="finger_2_segment_joint_1">
      <hardwareInterface>hardware_interface/EffortJointInterface</hardwareInterface>
    </joint>
    <actuator name="finger_2_segment_motor_1">
      <hardwareInterface>hardware_interface/EffortJointInterface</hardwareInterface>
      <mechanicalReduction>1</mechanicalReduction>
    </actuator>
  </transmission>
  <link name="finger_2_segment_link_3">
    <inertial>
      <mass value="0.013055555555555555"/>
      <inertia ixx="0.0008538442129629629" ixy="0.00" ixz="0.00" iyy="0.009614121990740741" iyz="0.00" izz="0.010466203703703703"/>
    </inertial>
    <visual>
      <origin rpy="0 0 0" xyz="0.0235 0 0"/>
      <geometry>
        <box size="0.047 0.028 0.0009"/>
      </geometry>
    </visual>
    <collision>
      <origin rpy="0 0 0" xyz="0.0235 0 0"/>
      <geometry>
        <box size="0.047 0.028 0.0009"/>
      </geometry>
    </collision>
  </link>
  <gazebo reference="finger_2_segment_link_3">
    <material>Gazebo/Orange</material>
    <mu1>0.1</mu1>
    <mu2>0.1</mu2>
    <maxVel>0.0</maxVel>
    <minDepth>0.001</minDepth>
    <!-- <kp>100</kp>
        <kd>1</kd> -->
  </gazebo>
  <!-- bending joint -->
  <joint name="finger_2_segment_joint_2" type="revolute">
    <axis rpy="0 0 0" xyz="0 1 0"/>
    <parent link="finger_2_segment_link_2"/>
    <child link="finger_2_segment_link_3"/>
    <origin rpy="0 0 0" xyz="0.047 0 0"/>
    <limit effort="1000.0" lower="-1.0" upper="1.0" velocity="1.0"/>
    <dynamics damping="0.01" friction="0.0"/>
  </joint>
  <gazebo reference="finger_2_segment_joint_2">
    <provideFeedback>1</provideFeedback>
    <springReference>0.0</springReference>
    <implicitSpringDamper>1</implicitSpringDamper>
    <springStiffness>3.0</springStiffness>
  </gazebo>
  <!-- set transmission for gazebo ROS controllers-->
  <transmission name="finger_2_segment_tran_2">
    <type>transmission_interface/SimpleTransmission</type>
    <joint name="finger_2_segment_joint_2">
      <hardwareInterface>hardware_interface/EffortJointInterface</hardwareInterface>
    </joint>
    <actuator name="finger_2_segment_motor_2">
      <hardwareInterface>hardware_interface/EffortJointInterface</hardwareInterface>
      <mechanicalReduction>1</mechanicalReduction>
    </actuator>
  </transmission>
  <link name="finger_2_segment_link_4">
    <inertial>
      <mass value="0.013055555555555555"/>
      <inertia ixx="0.0008538442129629629" ixy="0.00" ixz="0.00" iyy="0.009614121990740741" iyz="0.00" izz="0.010466203703703703"/>
    </inertial>
    <visual>
      <origin rpy="0 0 0" xyz="0.0235 0 0"/>
      <geometry>
        <box size="0.047 0.028 0.0009"/>
      </geometry>
    </visual>
    <collision>
      <origin rpy="0 0 0" xyz="0.0235 0 0"/>
      <geometry>
        <box size="0.047 0.028 0.0009"/>
      </geometry>
    </collision>
  </link>
  <gazebo reference="finger_2_segment_link_4">
    <material>Gazebo/Orange</material>
    <mu1>0.1</mu1>
    <mu2>0.1</mu2>
    <maxVel>0.0</maxVel>
    <minDepth>0.001</minDepth>
    <!-- <kp>100</kp>
        <kd>1</kd> -->
  </gazebo>
  <!-- bending joint -->
  <joint name="finger_2_segment_joint_3" type="revolute">
    <axis rpy="0 0 0" xyz="0 1 0"/>
    <parent link="finger_2_segment_link_3"/>
    <child link="finger_2_segment_link_4"/>
    <origin rpy="0 0 0" xyz="0.047 0 0"/>
    <limit effort="1000.0" lower="-1.0" upper="1.0" velocity="1.0"/>
    <dynamics damping="0.01" friction="0.0"/>
  </joint>
  <gazebo reference="finger_2_segment_joint_3">
    <provideFeedback>1</provideFeedback>
    <springReference>0.0</springReference>
    <implicitSpringDamper>1</implicitSpringDamper>
    <springStiffness>3.0</springStiffness>
  </gazebo>
  <!-- set transmission for gazebo ROS controllers-->
  <transmission name="finger_2_segment_tran_3">
    <type>transmission_interface/SimpleTransmission</type>
    <joint name="finger_2_segment_joint_3">
      <hardwareInterface>hardware_interface/EffortJointInterface</hardwareInterface>
    </joint>
    <actuator name="finger_2_segment_motor_3">
      <hardwareInterface>hardware_interface/EffortJointInterface</hardwareInterface>
      <mechanicalReduction>1</mechanicalReduction>
    </actuator>
  </transmission>
  <link name="finger_2_segment_link_5">
    <inertial>
      <mass value="0.013055555555555555"/>
      <inertia ixx="0.0008538442129629629" ixy="0.00" ixz="0.00" iyy="0.009614121990740741" iyz="0.00" izz="0.010466203703703703"/>
    </inertial>
    <visual>
      <origin rpy="0 0 0" xyz="0.0235 0 0"/>
      <geometry>
        <box size="0.047 0.028 0.0009"/>
      </geometry>
    </visual>
    <collision>
      <origin rpy="0 0 0" xyz="0.0235 0 0"/>
      <geometry>
        <box size="0.047 0.028 0.0009"/>
      </geometry>
    </collision>
  </link>
  <gazebo reference="finger_2_segment_link_5">
    <material>Gazebo/Orange</material>
    <mu1>0.1</mu1>
    <mu2>0.1</mu2>
    <maxVel>0.0</maxVel>
    <minDepth>0.001</minDepth>
    <!-- <kp>100</kp>
        <kd>1</kd> -->
  </gazebo>
  <!-- bending joint -->
  <joint name="finger_2_segment_joint_4" type="revolute">
    <axis rpy="0 0 0" xyz="0 1 0"/>
    <parent link="finger_2_segment_link_4"/>
    <child link="finger_2_segment_link_5"/>
    <origin rpy="0 0 0" xyz="0.047 0 0"/>
    <limit effort="1000.0" lower="-1.0" upper="1.0" velocity="1.0"/>
    <dynamics damping="0.01" friction="0.0"/>
  </joint>
  <gazebo reference="finger_2_segment_joint_4">
    <provideFeedback>1</provideFeedback>
    <springReference>0.0</springReference>
    <implicitSpringDamper>1</implicitSpringDamper>
    <springStiffness>3.0</springStiffness>
  </gazebo>
  <!-- set transmission for gazebo ROS controllers-->
  <transmission name="finger_2_segment_tran_4">
    <type>transmission_interface/SimpleTransmission</type>
    <joint name="finger_2_segment_joint_4">
      <hardwareInterface>hardware_interface/EffortJointInterface</hardwareInterface>
    </joint>
    <actuator name="finger_2_segment_motor_4">
      <hardwareInterface>hardware_interface/EffortJointInterface</hardwareInterface>
      <mechanicalReduction>1</mechanicalReduction>
    </actuator>
  </transmission>
  <!-- Add the finger hook link -->
  <link name="finger_2_finger_hook_link">
    <inertial>
      <mass value="0.009722222222222222"/>
      <inertia ixx="0.0006358414351851853" ixy="0.00" ixz="0.00" iyy="0.003970563657407408" iyz="0.00" izz="0.004605092592592593"/>
    </inertial>
    <visual>
      <origin rpy="0 0 0" xyz="0.0175 0 0"/>
      <geometry>
        <box size="0.035 0.028 0.0009"/>
      </geometry>
    </visual>
    <collision>
      <origin rpy="0 0 0" xyz="0.0175 0 0"/>
      <geometry>
        <box size="0.035 0.028 0.0009"/>
      </geometry>
    </collision>
  </link>
  <gazebo reference="finger_2_finger_hook_link">
    <material>Gazebo/Orange</material>
    <mu1>0.1</mu1>
    <mu2>0.1</mu2>
    <maxVel>0.0</maxVel>
    <minDepth>0.001</minDepth>
    <!-- <kp>100</kp>
        <kd>1</kd> -->
  </gazebo>
  <joint name="finger_2_finger_hook_joint" type="fixed">
    <parent link="finger_2_segment_link_5"/>
    <child link="finger_2_finger_hook_link"/>
    <origin rpy="0 -1.5707963267948502 0" xyz="0.047 0 0"/>
  </joint>
  <!-- PARAMETERS TO BE SET BY HAND -->
  <!-- END OF PARAMETERS TO BE SET BY HAND -->
  <joint name="finger_3_segment_joint_0" type="revolute">
    <origin rpy="1.5707963267948966 0 0" xyz="0.129 -0.007 0"/>
    <parent link="finger_3"/>
    <child link="finger_3_segment_link_1"/>
    <axis rpy="0 0 0" xyz="0 1 0"/>
    <limit effort="1000.0" lower="-1.0" upper="1.0" velocity="1.0"/>
    <dynamics damping="0.01" friction="0.0"/>
  </joint>
  <!-- END TESTING OF BASE JOINT (rather than fixed) -->
  <link name="finger_3_segment_link_1">
    <inertial>
      <mass value="0.013055555555555555"/>
      <inertia ixx="0.0008538442129629629" ixy="0.00" ixz="0.00" iyy="0.009614121990740741" iyz="0.00" izz="0.010466203703703703"/>
    </inertial>
    <visual>
      <origin rpy="0 0 0" xyz="0.0235 0 0"/>
      <geometry>
        <box size="0.047 0.028 0.0009"/>
      </geometry>
    </visual>
    <collision>
      <origin rpy="0 0 0" xyz="0.0235 0 0"/>
      <geometry>
        <box size="0.047 0.028 0.0009"/>
      </geometry>
    </collision>
  </link>
  <gazebo reference="finger_3_segment_link_1">
    <material>Gazebo/Orange</material>
    <mu1>0.1</mu1>
    <mu2>0.1</mu2>
    <maxVel>0.0</maxVel>
    <minDepth>0.001</minDepth>
    <!-- <kp>100</kp>
        <kd>1</kd> -->
  </gazebo>
  <link name="finger_3_segment_link_2">
    <inertial>
      <mass value="0.013055555555555555"/>
      <inertia ixx="0.0008538442129629629" ixy="0.00" ixz="0.00" iyy="0.009614121990740741" iyz="0.00" izz="0.010466203703703703"/>
    </inertial>
    <visual>
      <origin rpy="0 0 0" xyz="0.0235 0 0"/>
      <geometry>
        <box size="0.047 0.028 0.0009"/>
      </geometry>
    </visual>
    <collision>
      <origin rpy="0 0 0" xyz="0.0235 0 0"/>
      <geometry>
        <box size="0.047 0.028 0.0009"/>
      </geometry>
    </collision>
  </link>
  <gazebo reference="finger_3_segment_link_2">
    <material>Gazebo/Orange</material>
    <mu1>0.1</mu1>
    <mu2>0.1</mu2>
    <maxVel>0.0</maxVel>
    <minDepth>0.001</minDepth>
    <!-- <kp>100</kp>
        <kd>1</kd> -->
  </gazebo>
  <!-- bending joint -->
  <joint name="finger_3_segment_joint_1" type="revolute">
    <axis rpy="0 0 0" xyz="0 1 0"/>
    <parent link="finger_3_segment_link_1"/>
    <child link="finger_3_segment_link_2"/>
    <origin rpy="0 0 0" xyz="0.047 0 0"/>
    <limit effort="1000.0" lower="-1.0" upper="1.0" velocity="1.0"/>
    <dynamics damping="0.01" friction="0.0"/>
  </joint>
  <gazebo reference="finger_3_segment_joint_1">
    <provideFeedback>1</provideFeedback>
    <springReference>0.0</springReference>
    <implicitSpringDamper>1</implicitSpringDamper>
    <springStiffness>3.0</springStiffness>
  </gazebo>
  <!-- set transmission for gazebo ROS controllers-->
  <transmission name="finger_3_segment_tran_1">
    <type>transmission_interface/SimpleTransmission</type>
    <joint name="finger_3_segment_joint_1">
      <hardwareInterface>hardware_interface/EffortJointInterface</hardwareInterface>
    </joint>
    <actuator name="finger_3_segment_motor_1">
      <hardwareInterface>hardware_interface/EffortJointInterface</hardwareInterface>
      <mechanicalReduction>1</mechanicalReduction>
    </actuator>
  </transmission>
  <link name="finger_3_segment_link_3">
    <inertial>
      <mass value="0.013055555555555555"/>
      <inertia ixx="0.0008538442129629629" ixy="0.00" ixz="0.00" iyy="0.009614121990740741" iyz="0.00" izz="0.010466203703703703"/>
    </inertial>
    <visual>
      <origin rpy="0 0 0" xyz="0.0235 0 0"/>
      <geometry>
        <box size="0.047 0.028 0.0009"/>
      </geometry>
    </visual>
    <collision>
      <origin rpy="0 0 0" xyz="0.0235 0 0"/>
      <geometry>
        <box size="0.047 0.028 0.0009"/>
      </geometry>
    </collision>
  </link>
  <gazebo reference="finger_3_segment_link_3">
    <material>Gazebo/Orange</material>
    <mu1>0.1</mu1>
    <mu2>0.1</mu2>
    <maxVel>0.0</maxVel>
    <minDepth>0.001</minDepth>
    <!-- <kp>100</kp>
        <kd>1</kd> -->
  </gazebo>
  <!-- bending joint -->
  <joint name="finger_3_segment_joint_2" type="revolute">
    <axis rpy="0 0 0" xyz="0 1 0"/>
    <parent link="finger_3_segment_link_2"/>
    <child link="finger_3_segment_link_3"/>
    <origin rpy="0 0 0" xyz="0.047 0 0"/>
    <limit effort="1000.0" lower="-1.0" upper="1.0" velocity="1.0"/>
    <dynamics damping="0.01" friction="0.0"/>
  </joint>
  <gazebo reference="finger_3_segment_joint_2">
    <provideFeedback>1</provideFeedback>
    <springReference>0.0</springReference>
    <implicitSpringDamper>1</implicitSpringDamper>
    <springStiffness>3.0</springStiffness>
  </gazebo>
  <!-- set transmission for gazebo ROS controllers-->
  <transmission name="finger_3_segment_tran_2">
    <type>transmission_interface/SimpleTransmission</type>
    <joint name="finger_3_segment_joint_2">
      <hardwareInterface>hardware_interface/EffortJointInterface</hardwareInterface>
    </joint>
    <actuator name="finger_3_segment_motor_2">
      <hardwareInterface>hardware_interface/EffortJointInterface</hardwareInterface>
      <mechanicalReduction>1</mechanicalReduction>
    </actuator>
  </transmission>
  <link name="finger_3_segment_link_4">
    <inertial>
      <mass value="0.013055555555555555"/>
      <inertia ixx="0.0008538442129629629" ixy="0.00" ixz="0.00" iyy="0.009614121990740741" iyz="0.00" izz="0.010466203703703703"/>
    </inertial>
    <visual>
      <origin rpy="0 0 0" xyz="0.0235 0 0"/>
      <geometry>
        <box size="0.047 0.028 0.0009"/>
      </geometry>
    </visual>
    <collision>
      <origin rpy="0 0 0" xyz="0.0235 0 0"/>
      <geometry>
        <box size="0.047 0.028 0.0009"/>
      </geometry>
    </collision>
  </link>
  <gazebo reference="finger_3_segment_link_4">
    <material>Gazebo/Orange</material>
    <mu1>0.1</mu1>
    <mu2>0.1</mu2>
    <maxVel>0.0</maxVel>
    <minDepth>0.001</minDepth>
    <!-- <kp>100</kp>
        <kd>1</kd> -->
  </gazebo>
  <!-- bending joint -->
  <joint name="finger_3_segment_joint_3" type="revolute">
    <axis rpy="0 0 0" xyz="0 1 0"/>
    <parent link="finger_3_segment_link_3"/>
    <child link="finger_3_segment_link_4"/>
    <origin rpy="0 0 0" xyz="0.047 0 0"/>
    <limit effort="1000.0" lower="-1.0" upper="1.0" velocity="1.0"/>
    <dynamics damping="0.01" friction="0.0"/>
  </joint>
  <gazebo reference="finger_3_segment_joint_3">
    <provideFeedback>1</provideFeedback>
    <springReference>0.0</springReference>
    <implicitSpringDamper>1</implicitSpringDamper>
    <springStiffness>3.0</springStiffness>
  </gazebo>
  <!-- set transmission for gazebo ROS controllers-->
  <transmission name="finger_3_segment_tran_3">
    <type>transmission_interface/SimpleTransmission</type>
    <joint name="finger_3_segment_joint_3">
      <hardwareInterface>hardware_interface/EffortJointInterface</hardwareInterface>
    </joint>
    <actuator name="finger_3_segment_motor_3">
      <hardwareInterface>hardware_interface/EffortJointInterface</hardwareInterface>
      <mechanicalReduction>1</mechanicalReduction>
    </actuator>
  </transmission>
  <link name="finger_3_segment_link_5">
    <inertial>
      <mass value="0.013055555555555555"/>
      <inertia ixx="0.0008538442129629629" ixy="0.00" ixz="0.00" iyy="0.009614121990740741" iyz="0.00" izz="0.010466203703703703"/>
    </inertial>
    <visual>
      <origin rpy="0 0 0" xyz="0.0235 0 0"/>
      <geometry>
        <box size="0.047 0.028 0.0009"/>
      </geometry>
    </visual>
    <collision>
      <origin rpy="0 0 0" xyz="0.0235 0 0"/>
      <geometry>
        <box size="0.047 0.028 0.0009"/>
      </geometry>
    </collision>
  </link>
  <gazebo reference="finger_3_segment_link_5">
    <material>Gazebo/Orange</material>
    <mu1>0.1</mu1>
    <mu2>0.1</mu2>
    <maxVel>0.0</maxVel>
    <minDepth>0.001</minDepth>
    <!-- <kp>100</kp>
        <kd>1</kd> -->
  </gazebo>
  <!-- bending joint -->
  <joint name="finger_3_segment_joint_4" type="revolute">
    <axis rpy="0 0 0" xyz="0 1 0"/>
    <parent link="finger_3_segment_link_4"/>
    <child link="finger_3_segment_link_5"/>
    <origin rpy="0 0 0" xyz="0.047 0 0"/>
    <limit effort="1000.0" lower="-1.0" upper="1.0" velocity="1.0"/>
    <dynamics damping="0.01" friction="0.0"/>
  </joint>
  <gazebo reference="finger_3_segment_joint_4">
    <provideFeedback>1</provideFeedback>
    <springReference>0.0</springReference>
    <implicitSpringDamper>1</implicitSpringDamper>
    <springStiffness>3.0</springStiffness>
  </gazebo>
  <!-- set transmission for gazebo ROS controllers-->
  <transmission name="finger_3_segment_tran_4">
    <type>transmission_interface/SimpleTransmission</type>
    <joint name="finger_3_segment_joint_4">
      <hardwareInterface>hardware_interface/EffortJointInterface</hardwareInterface>
    </joint>
    <actuator name="finger_3_segment_motor_4">
      <hardwareInterface>hardware_interface/EffortJointInterface</hardwareInterface>
      <mechanicalReduction>1</mechanicalReduction>
    </actuator>
  </transmission>
  <!-- Add the finger hook link -->
  <link name="finger_3_finger_hook_link">
    <inertial>
      <mass value="0.009722222222222222"/>
      <inertia ixx="0.0006358414351851853" ixy="0.00" ixz="0.00" iyy="0.003970563657407408" iyz="0.00" izz="0.004605092592592593"/>
    </inertial>
    <visual>
      <origin rpy="0 0 0" xyz="0.0175 0 0"/>
      <geometry>
        <box size="0.035 0.028 0.0009"/>
      </geometry>
    </visual>
    <collision>
      <origin rpy="0 0 0" xyz="0.0175 0 0"/>
      <geometry>
        <box size="0.035 0.028 0.0009"/>
      </geometry>
    </collision>
  </link>
  <gazebo reference="finger_3_finger_hook_link">
    <material>Gazebo/Orange</material>
    <mu1>0.1</mu1>
    <mu2>0.1</mu2>
    <maxVel>0.0</maxVel>
    <minDepth>0.001</minDepth>
    <!-- <kp>100</kp>
        <kd>1</kd> -->
  </gazebo>
  <joint name="finger_3_finger_hook_joint" type="fixed">
    <parent link="finger_3_segment_link_5"/>
    <child link="finger_3_finger_hook_link"/>
    <origin rpy="0 -1.5707963267948502 0" xyz="0.047 0 0"/>
  </joint>
  <gazebo>
    <plugin filename="libfinger_controller_plugin.so" name="finger_controller_plugin"/>
  </gazebo>
  <!-- connect the panda to the ground -->
  <link name="world"/>
  <joint name="world_to_base" type="fixed">
    <origin rpy="0 0 0" xyz="0 0 0"/>
    <parent link="world"/>
    <child link="panda_link0"/>
  </joint>
  <!-- connect the gripper to the panda -->
  <!-- TODO verify these values -->
  <joint name="panda_to_eef_base_joint" type="fixed">
    <origin rpy="0 0 -0.7853981633974483" xyz="0 0 0.25"/>
    <parent link="panda_link7"/>
    <child link="gripper_base_link"/>
  </joint>
  <gazebo>
    <plugin filename="libreset_joints_plugin.so" name="reset_joints_plugin"/>
  </gazebo>
</robot>
